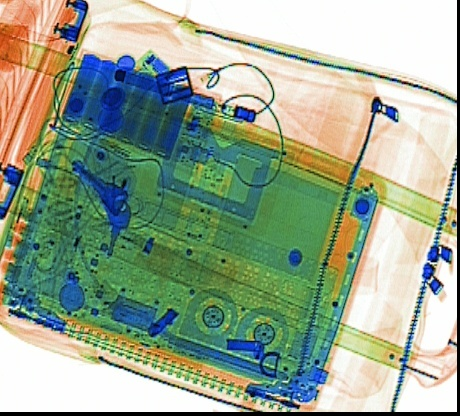powerbank: (58, 49, 218, 167)
